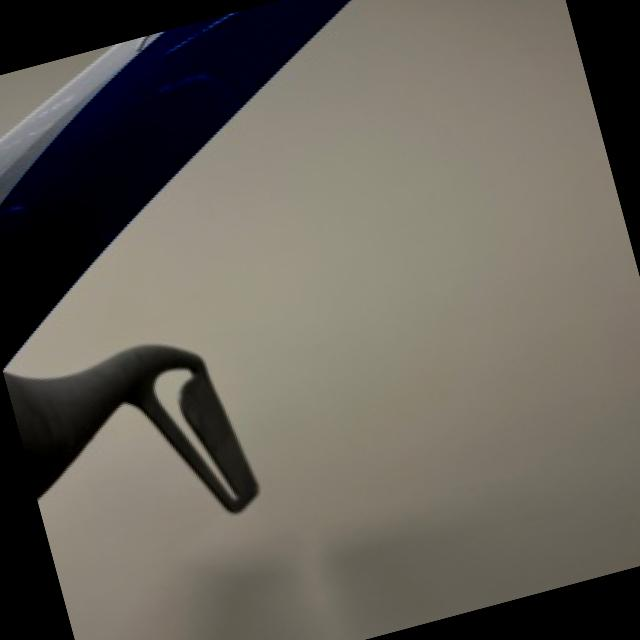healthy: (4, 342, 259, 506)
